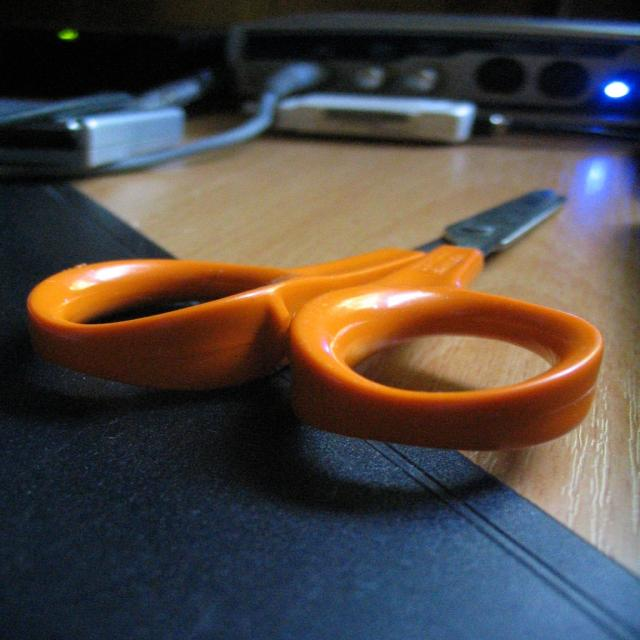scissors: (26, 187, 604, 451)
